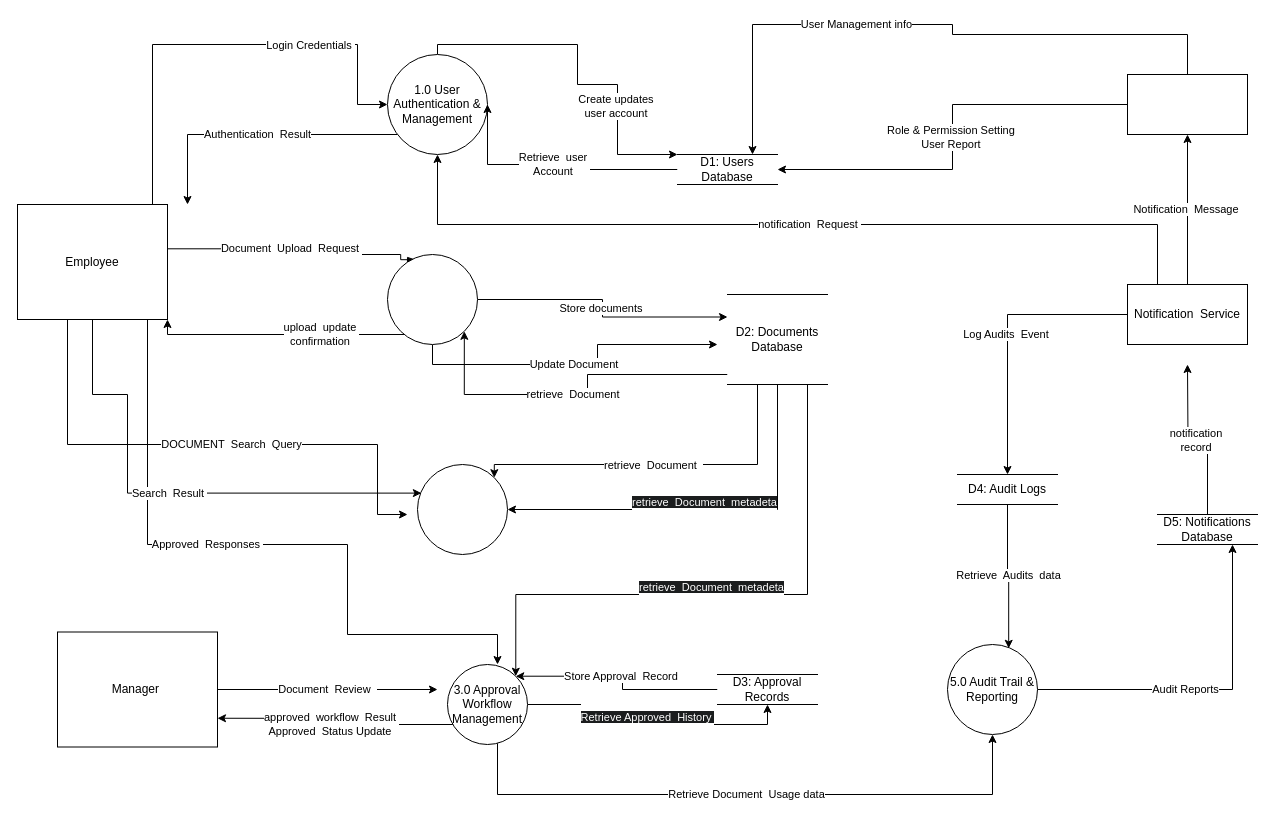
Some shapes in this 1275 by 820 pixel diagram are drawn without their labels. The centre of each missing label's shape, as x and y in pixels:
"2.0 Document Management" belongs at pixel 432 299.
"4.0 Document Search & Retrieval" belongs at pixel 462 509.
"Administrator" belongs at pixel 1187 104.
